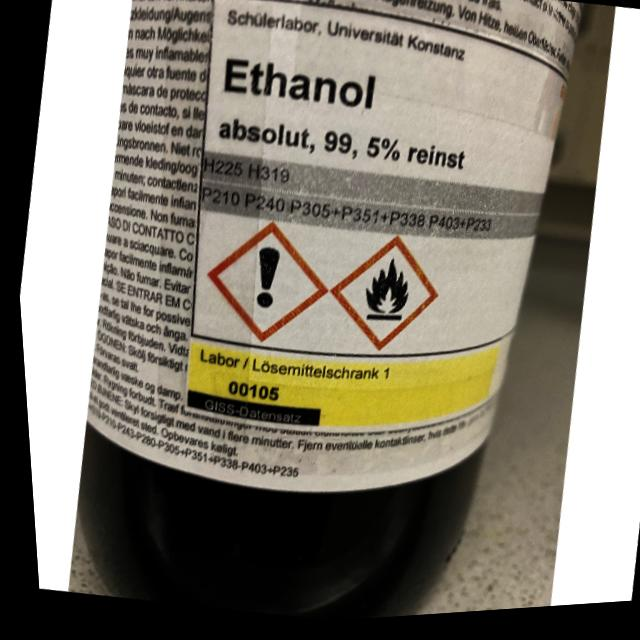flammable: (312, 228, 447, 367)
health-ozone layer hazard: (189, 210, 336, 358)
